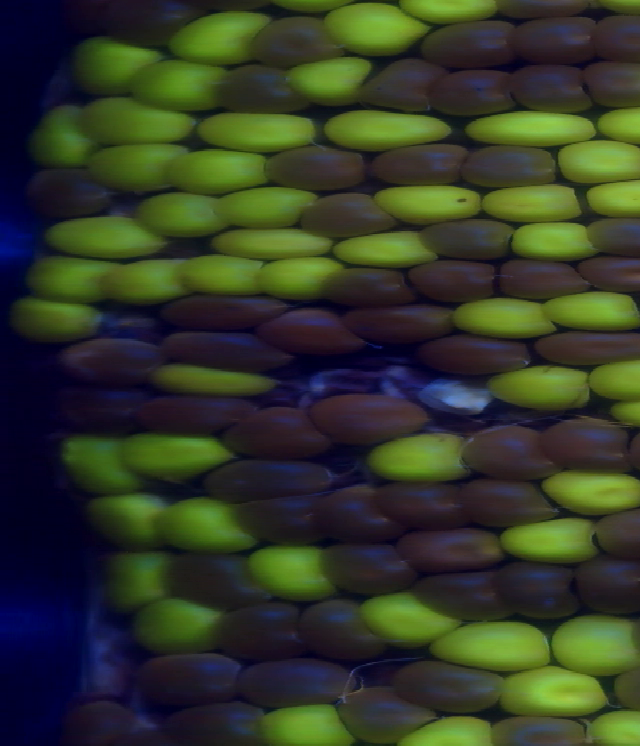fluorescent: (426, 620, 562, 673), (491, 661, 615, 718), (42, 209, 181, 257), (72, 92, 193, 145), (123, 427, 238, 482), (477, 362, 598, 413), (79, 487, 178, 549), (247, 538, 339, 604), (64, 31, 164, 89), (102, 546, 180, 620), (162, 14, 269, 67), (323, 3, 432, 55), (329, 107, 457, 151), (153, 355, 278, 400), (367, 431, 477, 481), (157, 495, 254, 551), (363, 592, 459, 648), (88, 142, 193, 193), (57, 428, 142, 490), (204, 221, 339, 260), (197, 106, 318, 149), (552, 611, 640, 670), (128, 58, 223, 112), (130, 599, 224, 653), (541, 463, 640, 514), (101, 257, 194, 311), (446, 295, 560, 339), (370, 181, 483, 225), (460, 111, 599, 146), (327, 226, 440, 269), (219, 185, 320, 232), (499, 513, 602, 559), (26, 252, 124, 300), (257, 703, 363, 746), (541, 287, 640, 333), (167, 148, 268, 193), (255, 252, 345, 302), (6, 295, 99, 343), (480, 184, 589, 224), (508, 220, 602, 265), (22, 109, 99, 162), (180, 253, 268, 298), (135, 191, 228, 232), (559, 139, 640, 183), (291, 60, 367, 103), (396, 713, 495, 746), (583, 351, 640, 400), (397, 1, 507, 25), (589, 710, 640, 746), (595, 103, 640, 143), (593, 177, 640, 214), (595, 1, 640, 16)
nonfluorescent: (161, 326, 303, 373), (158, 283, 293, 330), (325, 536, 428, 597), (457, 472, 568, 528), (408, 569, 515, 627), (165, 550, 266, 611), (392, 657, 505, 711), (131, 652, 255, 701), (253, 302, 367, 355), (332, 683, 436, 741), (226, 401, 329, 459), (460, 428, 568, 483), (301, 599, 395, 661), (239, 654, 362, 700), (48, 334, 164, 382), (350, 300, 468, 347), (308, 396, 438, 437), (418, 333, 538, 377), (215, 61, 309, 117), (135, 389, 251, 434), (372, 481, 474, 532), (209, 453, 335, 494), (541, 419, 640, 471), (242, 486, 333, 542), (417, 216, 522, 264), (87, 1, 207, 43), (54, 384, 161, 431), (359, 52, 444, 111), (395, 527, 506, 572), (243, 17, 346, 65), (298, 193, 402, 240), (262, 145, 369, 190), (464, 138, 559, 188), (165, 701, 270, 746), (506, 14, 606, 61), (422, 19, 515, 69), (505, 60, 594, 112), (220, 600, 304, 655), (498, 559, 577, 617), (370, 143, 474, 187), (433, 64, 516, 117), (312, 479, 389, 535), (58, 701, 153, 746), (502, 255, 597, 298), (409, 259, 501, 303), (319, 261, 413, 304), (572, 558, 640, 617), (27, 167, 107, 214), (532, 328, 640, 362), (492, 717, 591, 746), (586, 16, 640, 64), (586, 61, 640, 109), (578, 254, 640, 292), (594, 509, 640, 559), (588, 214, 640, 257)
